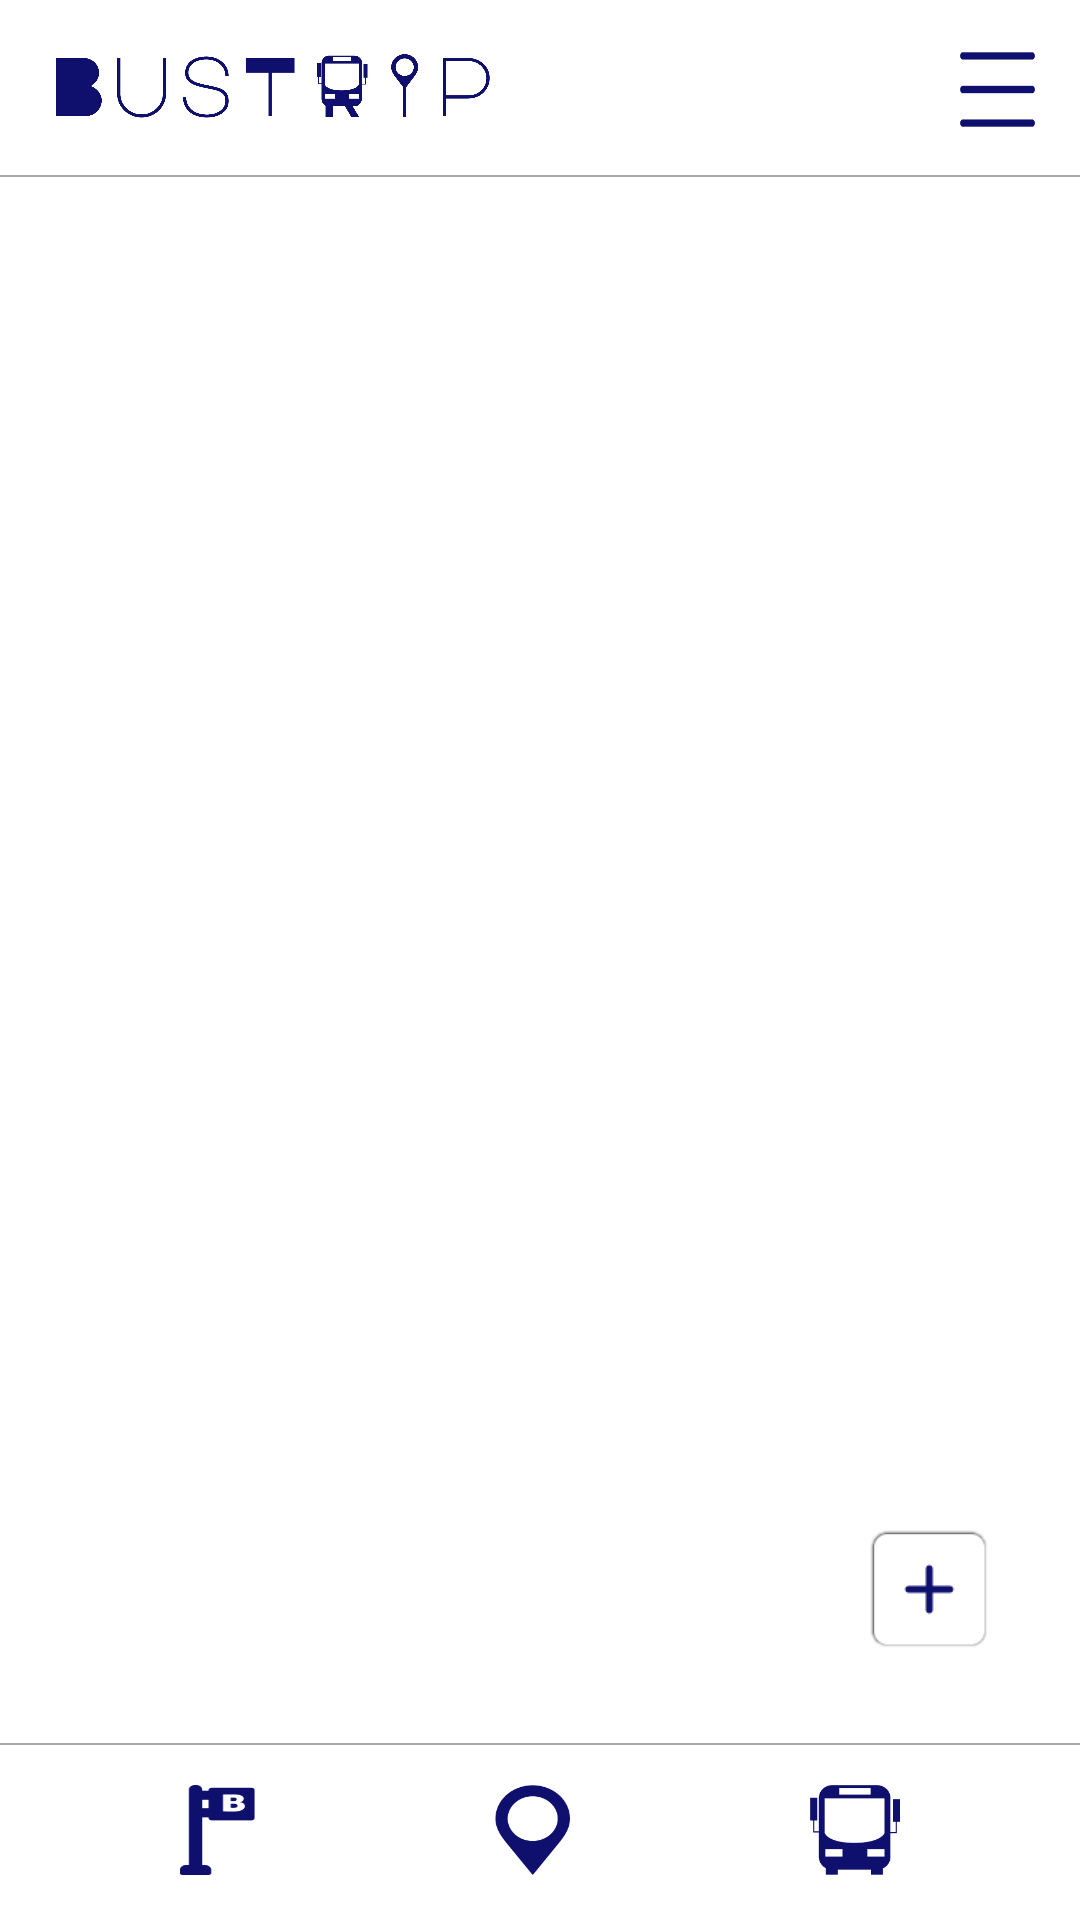

Icons on this 1080*1920 Android screen, each with the point to tap as point (x, y):
add: point (928, 1588)
buses: point (855, 1830)
estacion: point (217, 1830)
mapa: point (532, 1830)
menu: point (997, 89)
